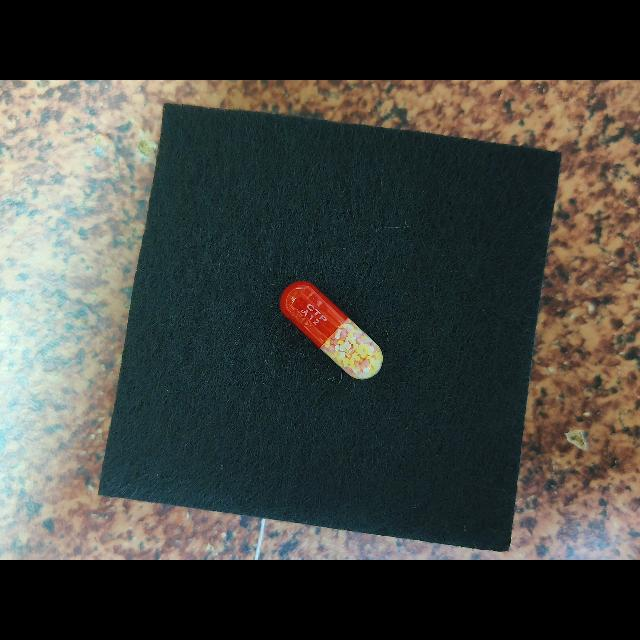Intact Capsule: (280, 281, 383, 379)
